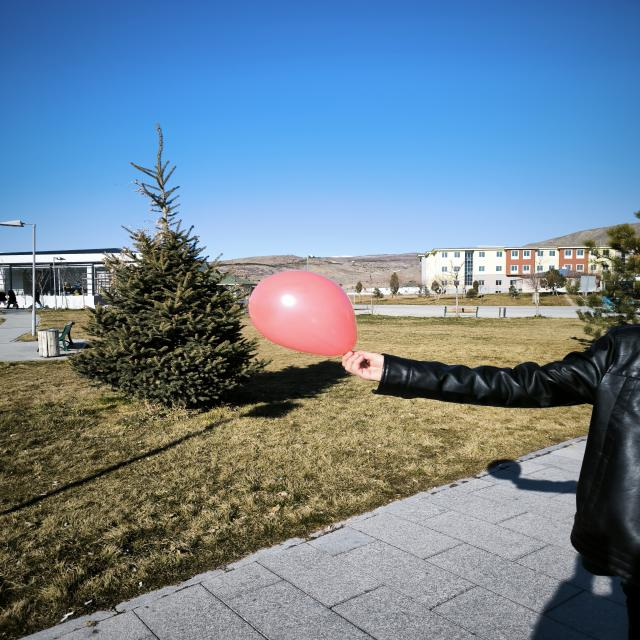balloon: (249, 270, 357, 357)
